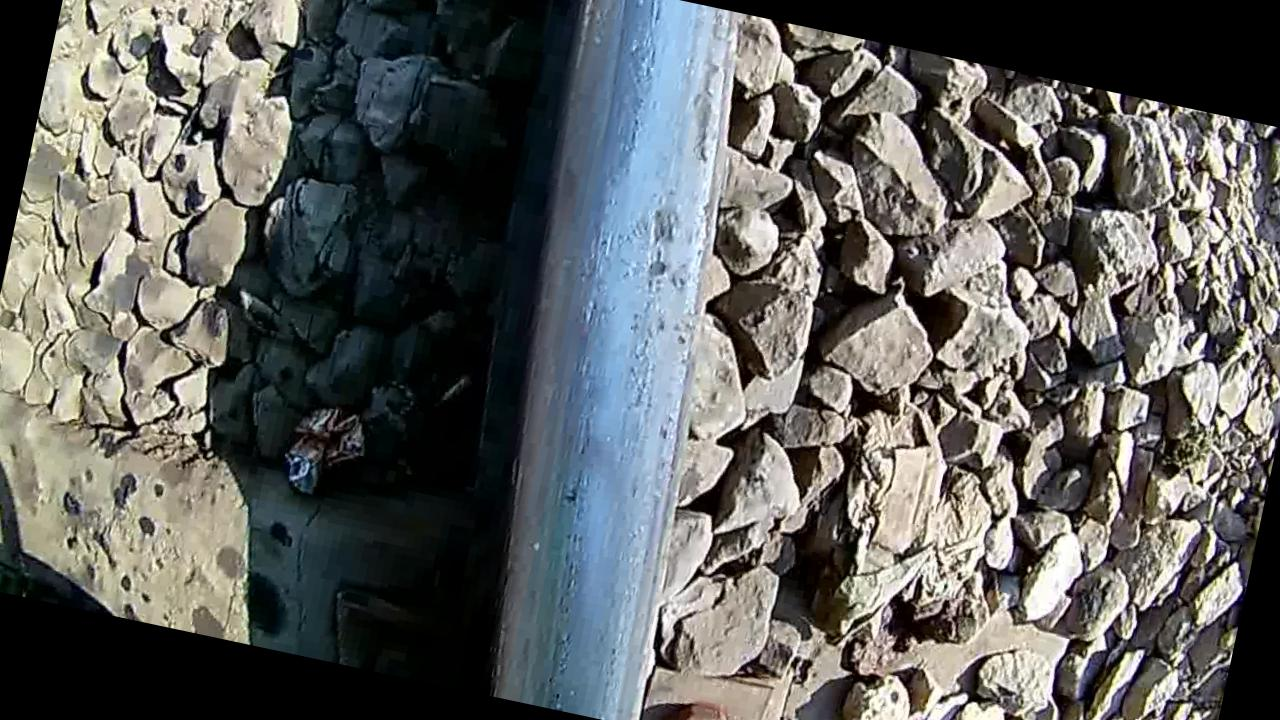crack: (440, 0, 765, 720)
